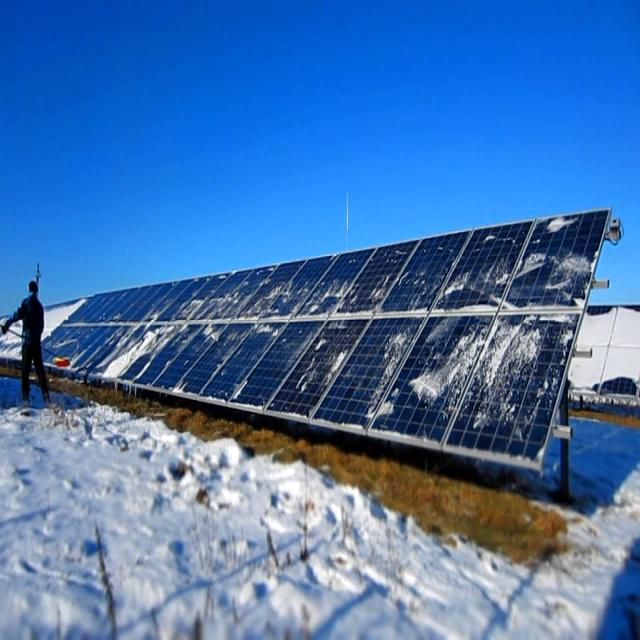panel: (414, 312, 489, 429), (494, 312, 544, 442), (178, 282, 294, 337), (512, 252, 600, 321), (171, 372, 283, 419), (321, 267, 398, 324), (101, 307, 156, 384), (368, 335, 409, 434), (298, 337, 352, 412), (412, 246, 449, 331), (446, 262, 510, 308), (294, 260, 318, 328), (531, 216, 569, 246)
